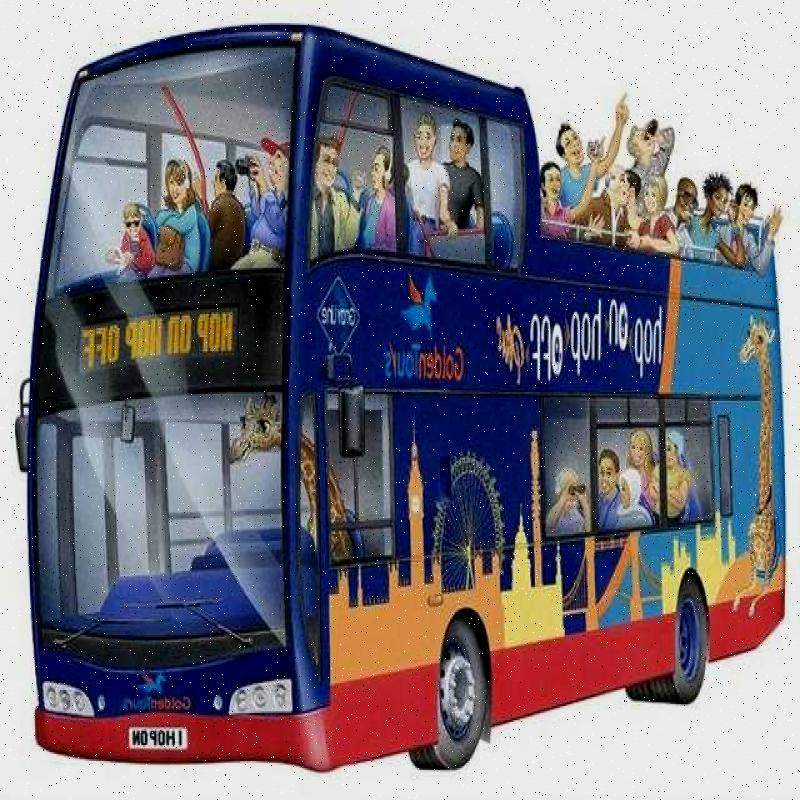bus: (0, 31, 782, 786)
